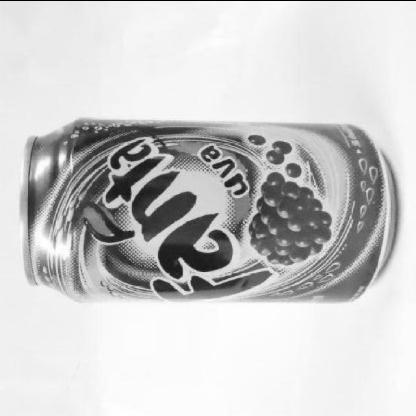alumunium_can: (18, 116, 396, 304)
